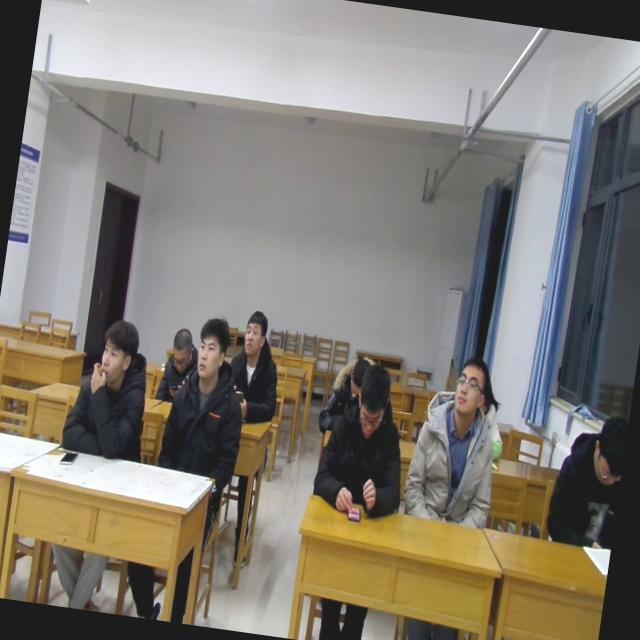bow: (314, 346, 376, 438)
down: (348, 360, 394, 448), (586, 399, 629, 490), (163, 319, 196, 372), (341, 354, 371, 400)
lookup: (190, 312, 236, 389), (94, 316, 142, 387), (448, 356, 496, 422), (237, 303, 272, 360)
sit: (398, 348, 512, 532), (310, 357, 420, 519), (154, 312, 256, 482), (58, 310, 162, 464), (542, 405, 628, 556), (222, 307, 291, 429), (154, 322, 208, 408)
